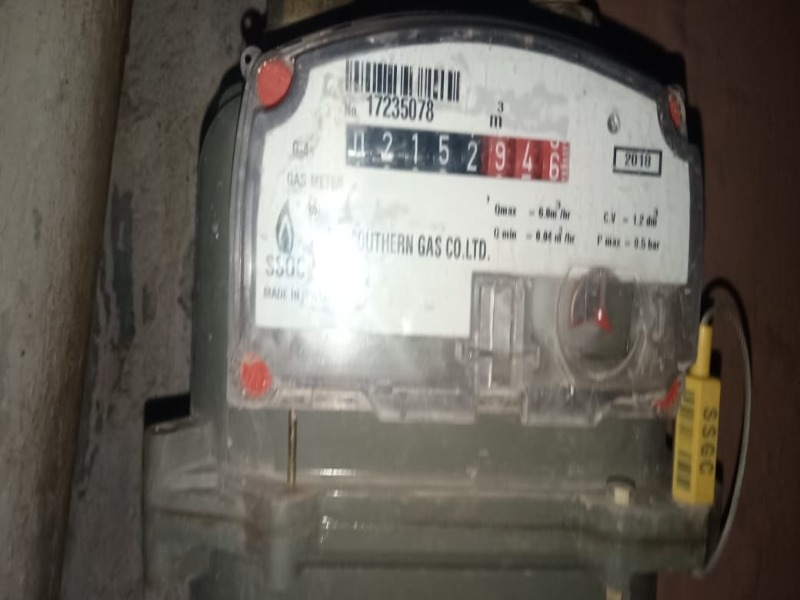ssgc: (341, 121, 573, 184)
